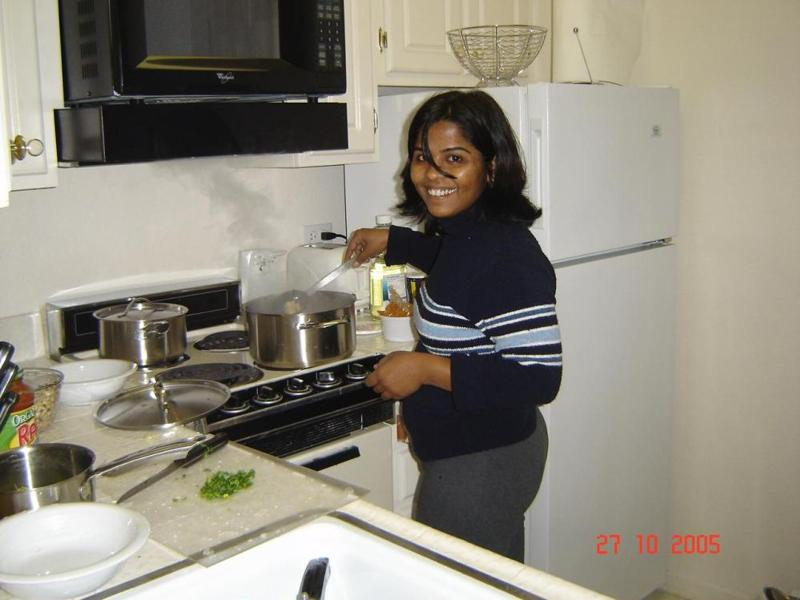person: (344, 89, 563, 566)
